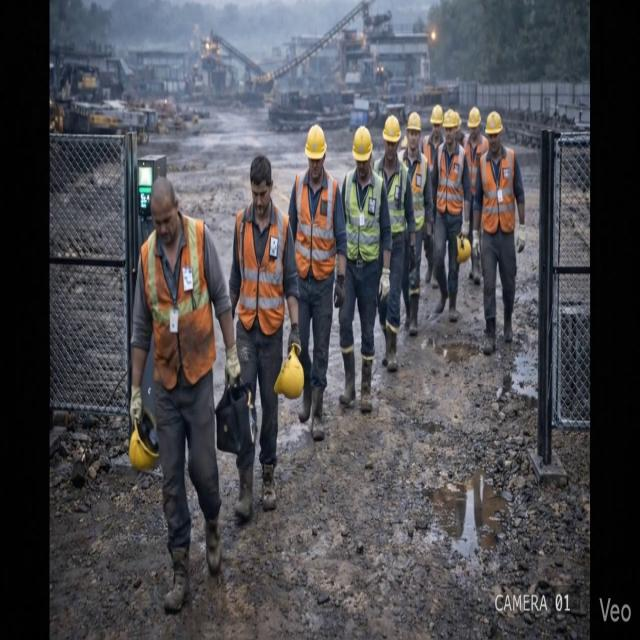Vest: (141, 215, 215, 390), (236, 202, 288, 335), (295, 171, 337, 280), (345, 170, 382, 262), (480, 147, 516, 233), (436, 144, 464, 215), (464, 135, 488, 196), (387, 162, 407, 234), (411, 153, 427, 231), (423, 135, 439, 170)
Worker: (130, 177, 240, 612), (229, 155, 300, 511), (289, 124, 346, 440), (339, 126, 391, 413), (472, 112, 525, 355), (374, 115, 415, 372), (432, 110, 470, 322), (400, 112, 433, 335), (463, 107, 488, 203), (422, 104, 443, 174)
helmet: (129, 408, 158, 471), (274, 346, 303, 399), (305, 125, 326, 159), (352, 126, 372, 161), (383, 115, 400, 142), (457, 233, 471, 263), (485, 112, 502, 135), (406, 111, 422, 132), (468, 107, 480, 128), (443, 110, 457, 128), (430, 105, 443, 124)
